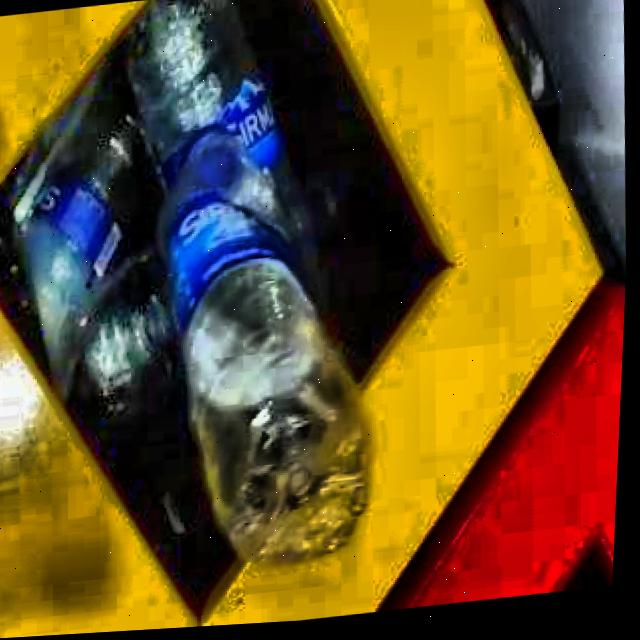plastic: (159, 135, 373, 570)
